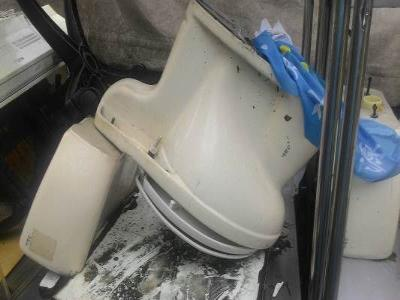toilet: (20, 1, 312, 276)
